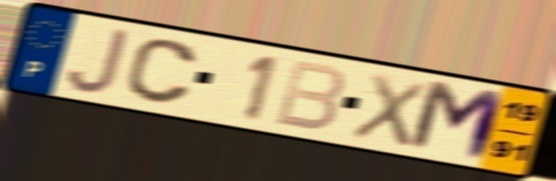1: (241, 53, 281, 123)
B: (271, 57, 348, 134)
C: (121, 37, 201, 108)
J: (63, 26, 132, 97)
M: (405, 77, 511, 166)
X: (347, 70, 431, 151)
